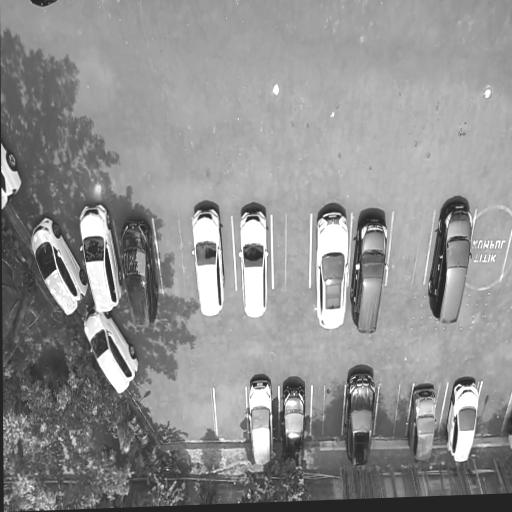Car: (22, 206, 94, 318), (427, 193, 478, 333), (77, 301, 141, 398), (76, 203, 127, 316), (116, 212, 164, 331), (312, 199, 352, 331), (351, 210, 391, 338), (189, 201, 228, 318), (235, 204, 272, 320), (344, 361, 381, 471), (441, 376, 484, 468), (406, 381, 443, 465), (281, 378, 312, 471), (246, 376, 275, 470), (1, 140, 22, 212), (28, 0, 60, 22)
Space Available: (387, 209, 435, 290), (154, 214, 196, 299), (468, 209, 512, 284), (273, 208, 310, 289), (476, 380, 512, 438), (377, 383, 413, 440), (313, 381, 345, 440), (213, 388, 247, 443)
